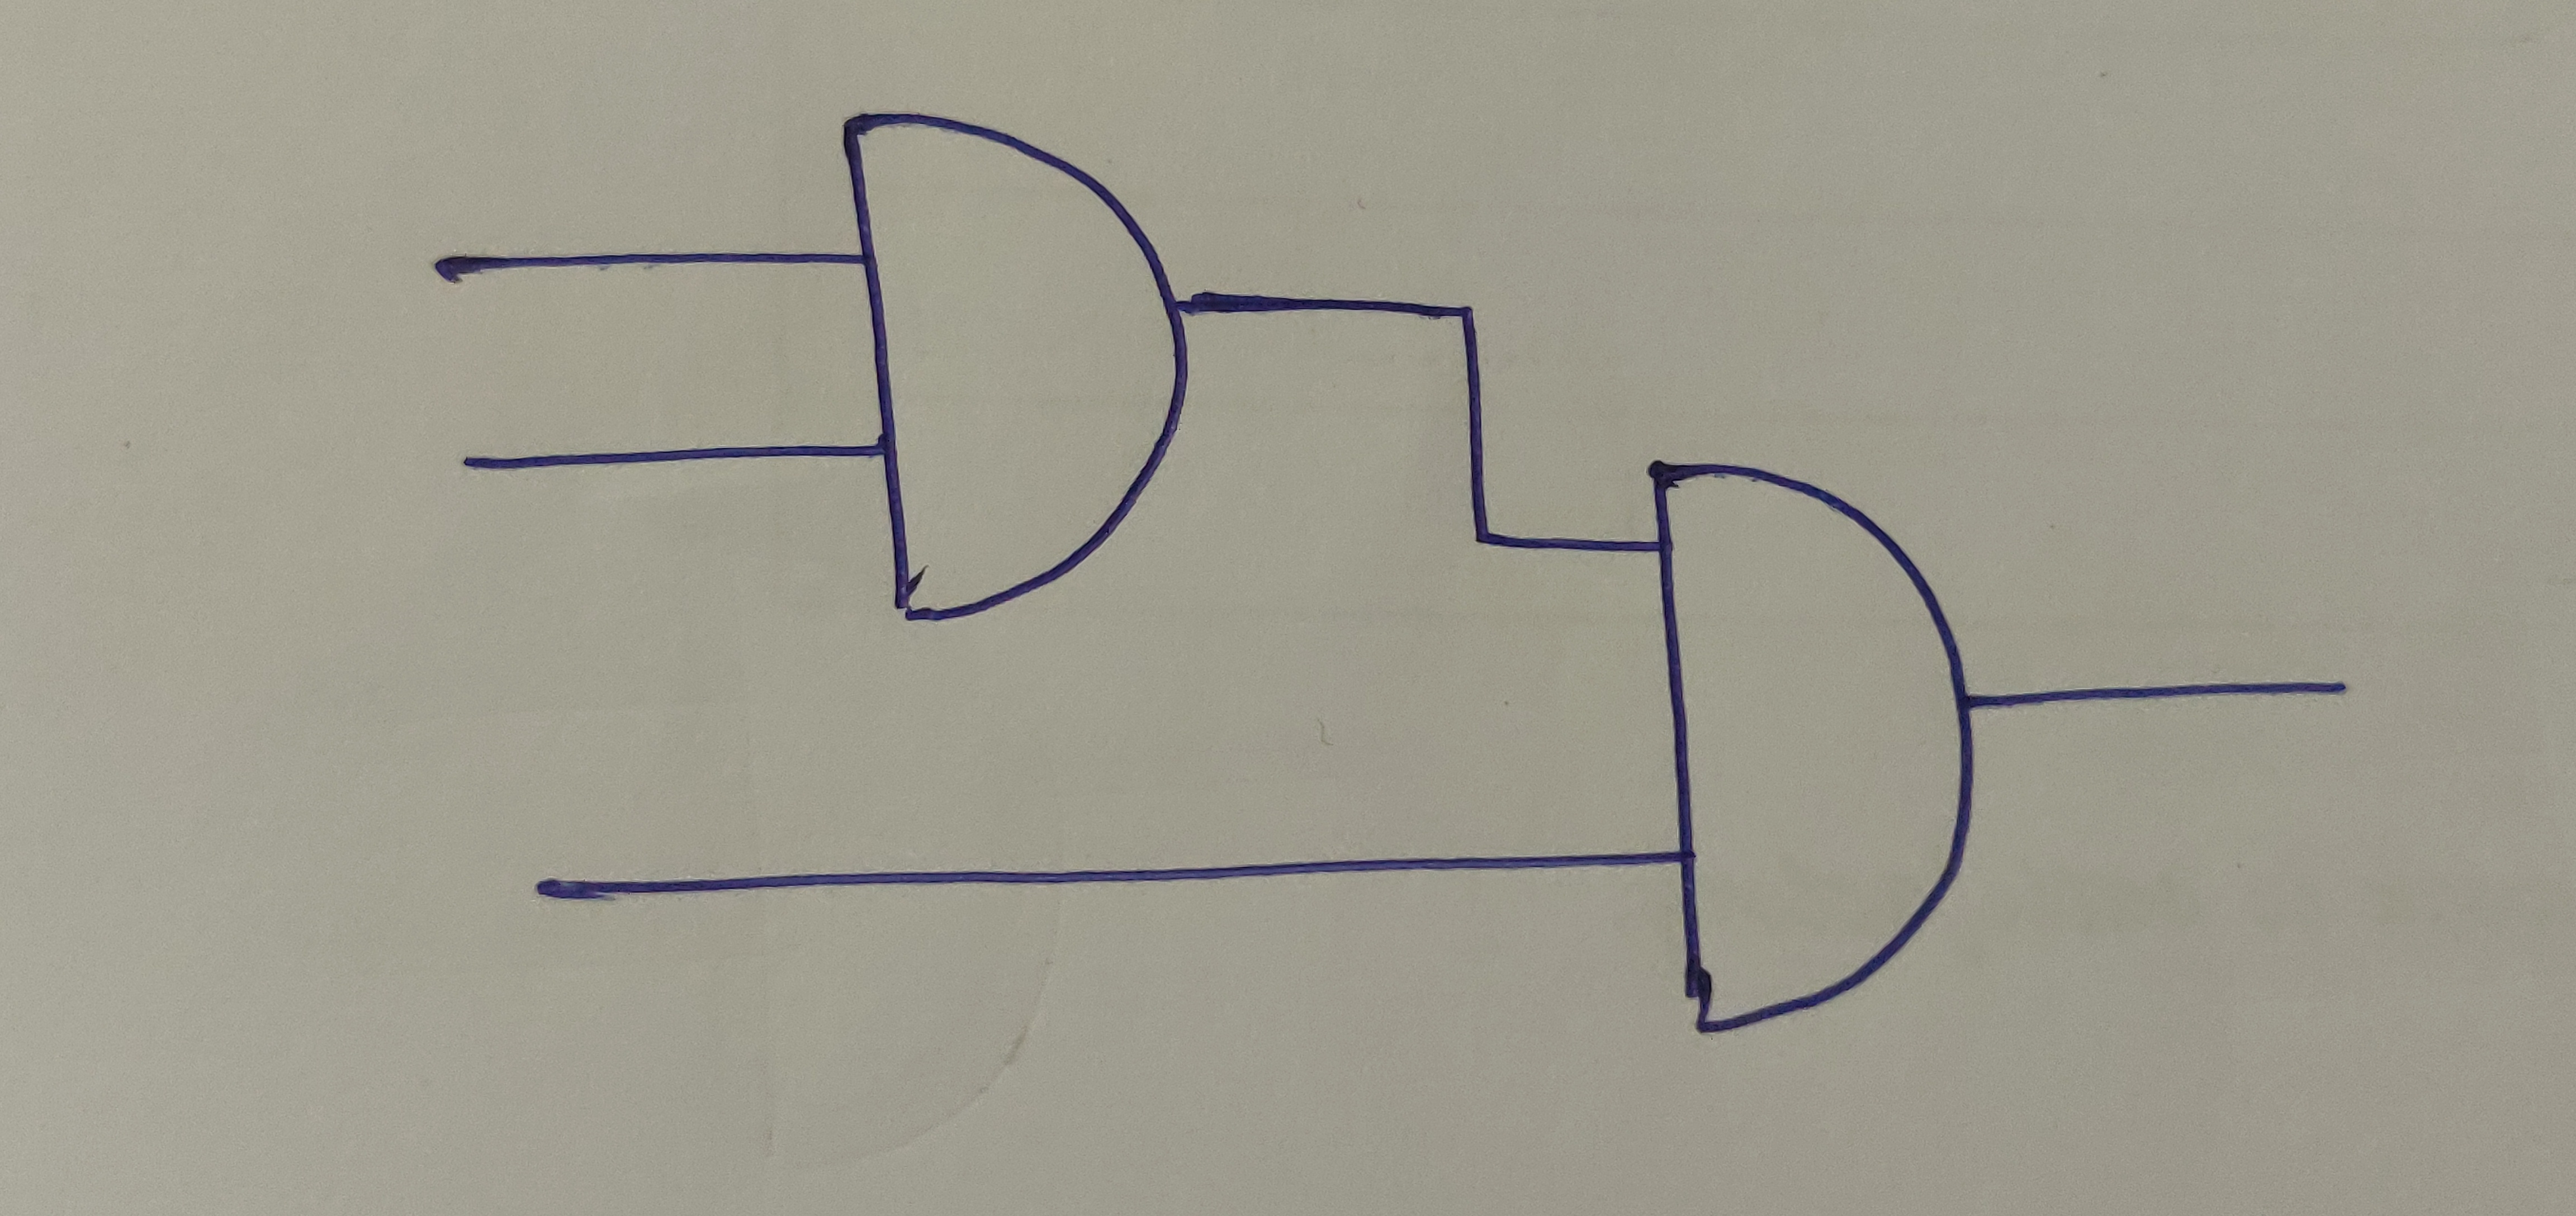and: (1641, 454, 1980, 1035), (823, 107, 1196, 624)
